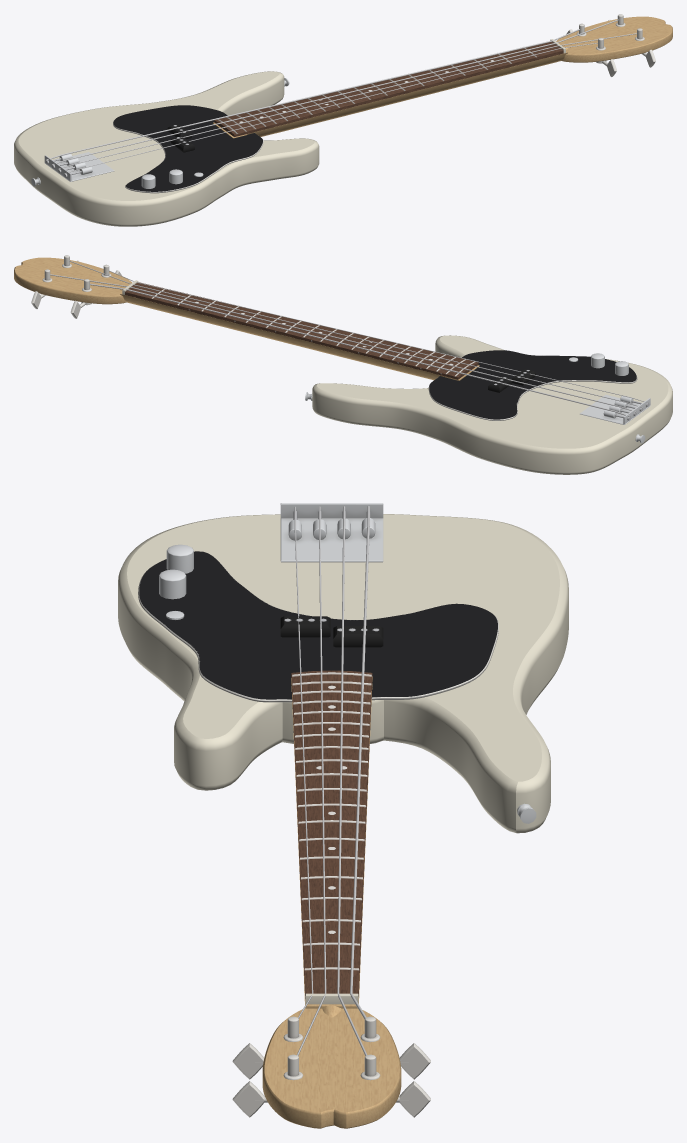
The model's file is ska_bass.glb.
3 renders of one model, top to bottom at view 1: azimuth 30°, elevation 25°; view 2: azimuth 150°, elevation 25°; view 3: azimuth 270°, elevation 25°, orthographic. The views are drawn at different scales.
Visible parts, largest first — view 1: bs_body, bs_neck, bs_guard, bs_strings, bs_hw, bs_tuners; view 2: bs_body, bs_neck, bs_guard, bs_strings, bs_hw, bs_tuners; view 3: bs_body, bs_neck, bs_guard, bs_hw, bs_strings, bs_tuners.
Part boxes in pixels (x1,y1,x2,y2): bs_body: (14, 71, 319, 226); bs_neck: (213, 16, 672, 138); bs_guard: (113, 105, 263, 193); bs_strings: (46, 19, 636, 173); bs_hw: (31, 78, 289, 188); bs_tuners: (566, 14, 655, 76); bs_body: (312, 335, 672, 474); bs_neck: (14, 257, 479, 380); bs_guard: (428, 350, 637, 420); bs_strings: (50, 260, 648, 416); bs_hw: (305, 353, 650, 443); bs_tuners: (31, 255, 121, 318); bs_body: (118, 514, 568, 833); bs_neck: (262, 670, 401, 1128); bs_guard: (138, 551, 498, 702); bs_hw: (159, 503, 536, 823); bs_strings: (294, 506, 369, 1055); bs_tuners: (232, 1016, 430, 1117).
Size of the model in its own units: 1.13 by 0.064 by 0.351.
Materials: 2 (1 with a texture image).
